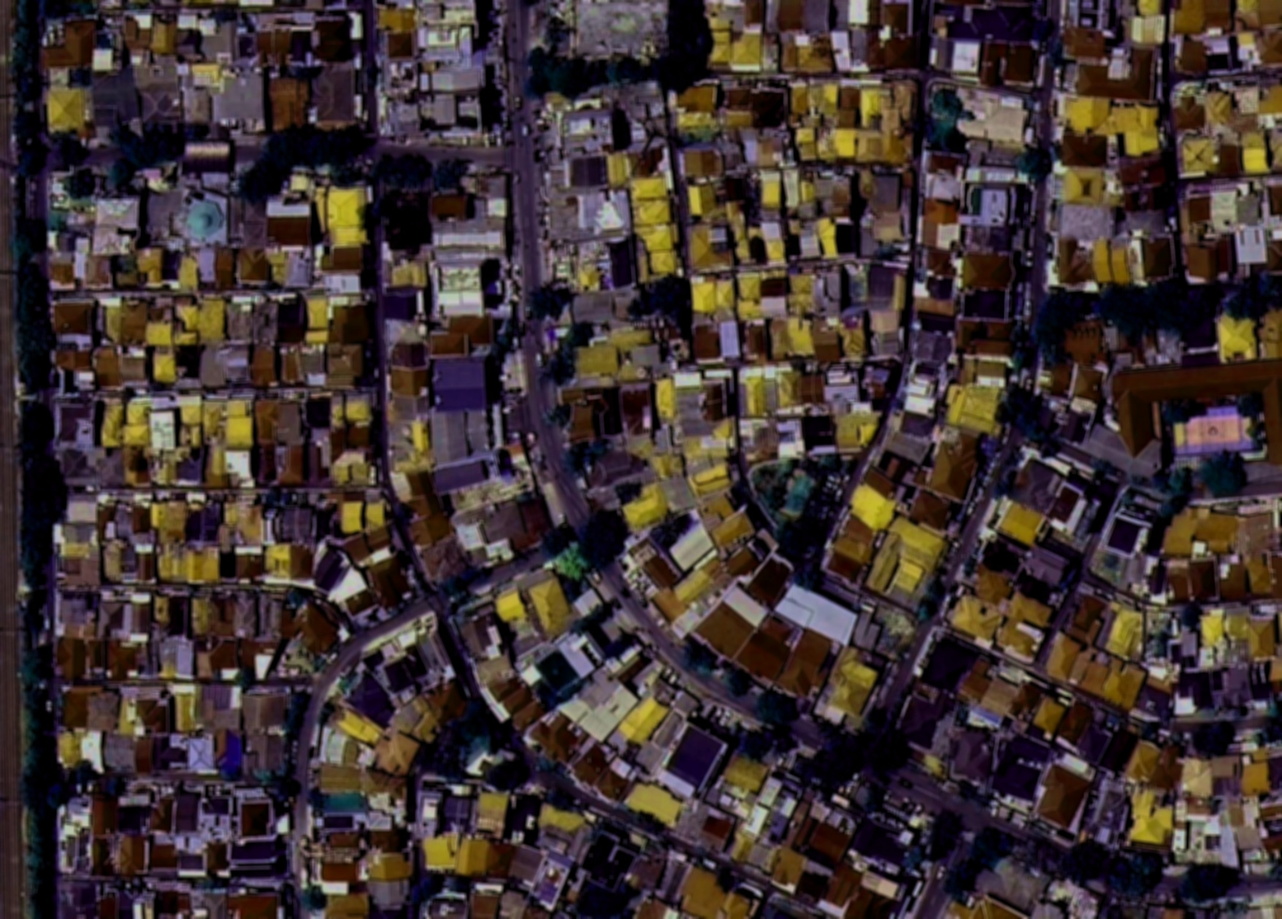building: (1110, 358, 1282, 465), (786, 75, 917, 167), (786, 75, 918, 166), (1169, 75, 1282, 181), (787, 78, 917, 166), (789, 80, 917, 165), (790, 80, 917, 165), (791, 80, 917, 165), (355, 615, 460, 710), (861, 511, 951, 611), (381, 668, 474, 759), (1075, 404, 1171, 492), (427, 170, 513, 265), (557, 661, 641, 746), (1060, 93, 1164, 156), (567, 0, 669, 64), (772, 577, 863, 647), (1084, 521, 1165, 599), (735, 769, 806, 857), (1028, 747, 1100, 833), (660, 715, 733, 795), (476, 662, 549, 740), (973, 847, 1052, 918), (984, 728, 1056, 805), (819, 508, 889, 587), (733, 611, 805, 687), (566, 738, 642, 810), (818, 642, 887, 721), (1174, 661, 1274, 715), (887, 678, 958, 754), (577, 435, 650, 508), (575, 821, 645, 895), (552, 94, 632, 158), (419, 829, 515, 882), (774, 626, 840, 703), (382, 409, 438, 497), (789, 801, 859, 871), (952, 85, 1033, 145), (1004, 446, 1072, 517), (848, 805, 919, 873), (1176, 130, 1270, 181), (918, 148, 965, 250), (706, 750, 772, 822), (525, 704, 593, 772), (453, 602, 516, 675), (915, 630, 981, 699), (1080, 773, 1139, 850), (1162, 503, 1241, 560), (925, 427, 984, 503), (1170, 809, 1246, 868), (692, 597, 758, 663), (284, 595, 350, 661), (53, 503, 103, 590), (814, 357, 875, 428), (932, 1, 1035, 43), (1075, 48, 1155, 101), (657, 509, 722, 574), (522, 567, 579, 640), (881, 513, 949, 573), (1095, 597, 1156, 663), (568, 237, 637, 295), (742, 546, 804, 610), (943, 589, 1008, 649), (1061, 0, 1123, 62), (1179, 218, 1238, 283), (1053, 480, 1112, 545), (132, 55, 185, 127), (84, 66, 143, 130), (669, 552, 732, 611), (1100, 498, 1158, 562), (626, 533, 685, 594), (417, 0, 475, 62), (343, 670, 405, 728), (943, 722, 998, 787), (615, 689, 673, 750), (298, 538, 356, 598), (1126, 785, 1178, 851), (673, 862, 733, 919), (389, 461, 443, 524), (415, 530, 474, 587), (851, 25, 921, 73), (401, 489, 456, 550), (897, 363, 941, 439), (624, 776, 687, 829), (842, 480, 901, 536), (431, 356, 489, 412), (554, 622, 610, 680), (362, 552, 416, 612), (1061, 585, 1113, 647), (213, 70, 264, 133), (616, 480, 674, 534), (433, 261, 487, 319), (426, 313, 495, 358), (526, 848, 575, 911), (310, 61, 356, 128), (944, 382, 1001, 436), (1072, 707, 1123, 767), (327, 700, 385, 751), (722, 83, 786, 129), (425, 405, 472, 467), (685, 457, 741, 509), (1098, 656, 1149, 713), (1027, 880, 1103, 918), (92, 193, 139, 254), (304, 721, 358, 774), (991, 613, 1047, 664), (385, 191, 431, 253), (669, 368, 710, 437), (672, 80, 725, 133), (976, 531, 1030, 583), (118, 685, 172, 737), (179, 192, 230, 247), (1096, 719, 1144, 777), (992, 498, 1047, 548), (817, 859, 867, 914), (1130, 675, 1181, 728), (1045, 470, 1092, 527), (229, 838, 288, 883), (43, 17, 95, 68), (721, 534, 774, 584), (1181, 753, 1241, 797), (722, 128, 788, 168), (651, 849, 698, 905), (1147, 739, 1193, 796), (1019, 540, 1072, 589), (1173, 35, 1236, 76), (430, 454, 493, 495), (955, 319, 1015, 362), (965, 563, 1017, 612), (603, 638, 655, 687), (1039, 630, 1086, 684), (1056, 393, 1101, 449), (325, 187, 367, 247), (978, 42, 1035, 86), (975, 671, 1023, 723), (905, 486, 956, 534), (721, 581, 772, 629), (175, 297, 226, 345), (720, 750, 772, 797), (478, 497, 527, 546), (180, 495, 226, 547), (242, 730, 288, 782), (500, 790, 543, 845), (268, 74, 310, 130), (326, 563, 373, 613), (687, 220, 733, 271), (1121, 735, 1166, 787), (626, 844, 671, 896), (145, 188, 186, 245), (194, 683, 241, 732), (266, 197, 312, 247), (694, 806, 740, 856), (779, 33, 835, 74), (737, 414, 782, 465), (1028, 688, 1072, 740), (102, 540, 155, 583), (534, 801, 588, 843), (1054, 697, 1098, 748), (765, 842, 809, 893), (1055, 203, 1114, 241), (956, 654, 999, 706), (737, 366, 779, 419), (670, 795, 714, 845), (1004, 590, 1055, 633), (706, 508, 757, 551), (1062, 319, 1107, 367), (1005, 675, 1048, 725), (241, 690, 291, 733), (960, 251, 1015, 290), (780, 34, 835, 73), (883, 423, 932, 466), (1172, 0, 1232, 35), (1058, 128, 1109, 169), (1096, 323, 1147, 364), (310, 13, 351, 64), (471, 787, 511, 839), (437, 789, 480, 837), (883, 424, 932, 466), (263, 542, 313, 583), (618, 382, 655, 437), (54, 590, 96, 638), (56, 637, 104, 679), (1077, 649, 1118, 698), (516, 489, 555, 540), (104, 299, 148, 344), (589, 764, 635, 807), (505, 842, 546, 890), (1237, 510, 1282, 553), (842, 883, 895, 919), (913, 277, 956, 321), (691, 276, 735, 319), (329, 301, 372, 345), (103, 639, 147, 682), (698, 488, 743, 530), (45, 87, 87, 132), (868, 35, 919, 72), (658, 470, 699, 516), (412, 783, 445, 840), (230, 197, 266, 249), (55, 401, 94, 449), (1117, 152, 1167, 189), (1147, 328, 1188, 373), (325, 343, 366, 388), (1090, 238, 1130, 284), (833, 412, 879, 452), (948, 895, 1028, 918), (277, 502, 319, 545), (234, 636, 276, 679), (384, 316, 428, 357), (859, 465, 904, 505), (199, 21, 239, 66), (1218, 315, 1257, 361), (182, 139, 233, 174), (648, 583, 690, 625), (148, 733, 191, 774), (136, 245, 178, 286), (910, 328, 955, 366), (1056, 238, 1093, 284), (1214, 557, 1251, 603), (255, 594, 291, 641), (490, 587, 530, 629), (150, 499, 188, 543), (56, 448, 101, 485), (758, 216, 790, 268), (155, 637, 194, 679), (576, 340, 620, 377), (733, 272, 766, 321), (1169, 92, 1208, 133), (674, 82, 721, 116), (152, 594, 189, 637), (750, 85, 786, 129), (1140, 235, 1175, 280), (837, 315, 872, 360), (57, 880, 98, 918), (331, 448, 373, 485), (227, 837, 277, 868), (801, 412, 837, 455), (1238, 82, 1282, 117), (868, 170, 903, 214), (226, 890, 281, 918), (607, 238, 637, 289), (600, 264, 638, 304), (810, 318, 843, 364), (627, 143, 668, 180), (592, 190, 628, 232), (386, 256, 428, 292), (86, 688, 120, 732), (961, 289, 1009, 320), (858, 867, 903, 900), (225, 398, 253, 451), (668, 603, 708, 640), (380, 737, 417, 777), (1064, 168, 1105, 204), (1187, 556, 1219, 602), (58, 685, 90, 731), (1104, 237, 1134, 286), (1000, 43, 1035, 85), (388, 389, 430, 424), (1235, 0, 1282, 31), (609, 322, 656, 353), (462, 407, 493, 454), (1180, 137, 1218, 175), (793, 867, 831, 905), (1177, 671, 1214, 710), (194, 298, 226, 343), (1070, 363, 1105, 404), (60, 830, 91, 876), (102, 730, 135, 773), (1179, 319, 1219, 354), (1146, 898, 1216, 918), (681, 146, 723, 179), (965, 224, 1012, 253), (735, 273, 764, 320), (1185, 240, 1218, 281), (53, 301, 94, 334), (566, 156, 607, 189), (208, 638, 241, 679), (239, 798, 272, 839), (868, 264, 897, 310), (571, 291, 614, 322), (117, 345, 148, 388), (256, 28, 291, 66), (1234, 226, 1268, 265), (1235, 29, 1269, 68), (1244, 552, 1274, 596), (859, 361, 892, 401), (361, 767, 405, 797), (1122, 126, 1163, 158), (949, 40, 981, 81), (632, 196, 673, 228), (148, 16, 180, 57), (320, 244, 365, 273), (276, 299, 305, 344), (317, 764, 362, 793), (123, 598, 152, 643), (682, 433, 730, 460), (626, 340, 664, 374), (1241, 751, 1269, 797), (172, 789, 200, 835), (249, 300, 278, 344), (249, 344, 278, 388), (1066, 644, 1096, 686), (1249, 615, 1277, 660), (871, 210, 905, 247), (686, 181, 719, 219), (730, 33, 763, 71), (1210, 185, 1237, 231), (1181, 757, 1212, 797), (717, 890, 761, 918), (431, 67, 480, 92), (218, 730, 243, 779), (1174, 37, 1207, 74), (342, 587, 379, 620), (421, 0, 474, 23), (776, 417, 805, 459), (117, 835, 146, 877), (91, 792, 118, 837), (325, 891, 370, 918), (423, 891, 468, 918), (1122, 185, 1165, 213), (786, 315, 814, 358), (965, 163, 1025, 183), (691, 322, 721, 362), (653, 376, 678, 424), (599, 387, 623, 437), (389, 367, 429, 397), (1166, 558, 1192, 604), (232, 592, 258, 638), (383, 29, 418, 63), (276, 444, 305, 485), (369, 852, 410, 881), (1260, 798, 1282, 852), (640, 223, 678, 254), (182, 86, 213, 124), (1126, 210, 1168, 238), (123, 445, 151, 487), (172, 687, 197, 734), (276, 400, 302, 445), (209, 639, 239, 678), (710, 16, 732, 69), (299, 344, 326, 387), (207, 595, 234, 638), (148, 791, 175, 834), (567, 402, 596, 442), (305, 296, 329, 344), (187, 547, 219, 583), (430, 189, 467, 220), (154, 887, 191, 918), (741, 802, 772, 839), (972, 358, 1010, 388), (630, 173, 668, 203), (776, 368, 803, 410), (94, 346, 121, 388), (199, 345, 226, 387), (367, 880, 409, 907), (377, 3, 416, 32), (1233, 819, 1265, 854), (882, 0, 914, 35), (96, 599, 124, 639), (79, 730, 105, 773), (760, 276, 787, 317), (236, 504, 263, 545), (254, 398, 278, 444), (100, 402, 124, 448), (1260, 308, 1282, 358), (124, 402, 149, 446), (788, 273, 814, 315), (1131, 15, 1165, 47), (467, 888, 502, 919), (1260, 803, 1282, 852), (723, 200, 748, 243), (186, 735, 215, 772), (729, 828, 758, 865), (1235, 189, 1263, 227), (288, 29, 316, 67), (669, 687, 701, 720), (361, 523, 395, 554), (151, 346, 178, 385), (97, 448, 124, 487), (421, 95, 456, 125), (238, 248, 268, 283), (650, 450, 685, 480), (175, 344, 204, 380), (767, 317, 791, 360), (226, 302, 251, 343), (455, 520, 486, 553), (605, 150, 631, 189), (703, 379, 726, 423), (744, 321, 768, 363), (718, 318, 742, 360), (1257, 27, 1282, 67), (150, 409, 175, 449), (981, 188, 1008, 225), (175, 448, 202, 485), (830, 29, 853, 72), (323, 792, 366, 815), (647, 248, 681, 277), (383, 292, 417, 321), (363, 498, 391, 533), (137, 247, 162, 286), (798, 370, 825, 406), (204, 444, 226, 488), (1047, 360, 1073, 397), (456, 93, 482, 130), (285, 249, 311, 286), (390, 342, 427, 368), (117, 804, 148, 835), (90, 837, 114, 877), (1215, 141, 1243, 175), (123, 16, 151, 50), (1206, 89, 1233, 124), (150, 836, 177, 871), (824, 270, 844, 317), (1246, 892, 1282, 918), (872, 329, 903, 359), (65, 493, 97, 522), (339, 500, 364, 537), (277, 604, 302, 641), (54, 346, 92, 370), (367, 827, 402, 853), (201, 399, 223, 440), (60, 797, 90, 827), (759, 170, 782, 209), (803, 0, 830, 33), (730, 227, 754, 264), (225, 344, 249, 381), (85, 255, 111, 289), (214, 247, 235, 289), (1200, 612, 1225, 647), (57, 731, 82, 766), (736, 0, 765, 30), (856, 132, 884, 163), (484, 537, 515, 565), (777, 0, 804, 32), (305, 397, 332, 429), (782, 168, 803, 209), (96, 502, 118, 541), (924, 199, 958, 224), (902, 392, 936, 417), (499, 889, 528, 918), (817, 218, 838, 258), (280, 346, 302, 384), (1185, 795, 1218, 820), (798, 179, 818, 220), (345, 393, 372, 423), (395, 101, 421, 132), (225, 448, 251, 479), (320, 861, 358, 882), (861, 86, 880, 127), (869, 309, 901, 333), (798, 226, 821, 259), (926, 248, 954, 275), (177, 394, 202, 424), (1187, 194, 1211, 225), (60, 208, 92, 231), (195, 248, 216, 283), (326, 830, 361, 851), (236, 554, 264, 580), (258, 444, 277, 482), (152, 453, 175, 484), (814, 173, 832, 212), (117, 889, 141, 918), (1030, 899, 1066, 918), (206, 842, 228, 873), (176, 28, 201, 55), (146, 321, 173, 346), (926, 276, 954, 300), (1171, 821, 1191, 854), (49, 263, 74, 289), (347, 423, 372, 449), (1225, 614, 1249, 641), (1180, 630, 1198, 666), (48, 230, 76, 253), (577, 194, 595, 229), (119, 697, 136, 734), (722, 175, 746, 201), (330, 423, 346, 462), (1268, 747, 1282, 791), (834, 129, 856, 157), (836, 224, 856, 254), (389, 62, 413, 87), (178, 853, 205, 875), (204, 891, 226, 918), (202, 795, 230, 816), (747, 235, 767, 264), (131, 505, 151, 533), (1269, 128, 1282, 171), (1110, 502, 1134, 525), (1266, 239, 1282, 273), (760, 277, 787, 297), (1242, 797, 1259, 827), (366, 811, 393, 829), (860, 226, 875, 258), (848, 0, 868, 24), (785, 233, 802, 261), (1228, 800, 1244, 829), (1268, 184, 1282, 215), (1137, 0, 1163, 16), (223, 501, 239, 526), (928, 45, 944, 68), (332, 466, 351, 485), (390, 396, 414, 404), (1140, 523, 1152, 535), (136, 738, 139, 772), (644, 103, 651, 117), (391, 357, 401, 365), (358, 423, 369, 430), (333, 425, 340, 433), (361, 396, 368, 403)
tree: (794, 713, 880, 804), (1137, 271, 1225, 340), (566, 503, 639, 575), (443, 694, 512, 766), (1090, 277, 1163, 341), (645, 42, 713, 100), (1055, 832, 1117, 895), (855, 722, 917, 782), (661, 0, 719, 62), (413, 730, 475, 787), (1103, 847, 1166, 901), (18, 453, 67, 522), (299, 124, 368, 173), (231, 155, 294, 208), (123, 124, 188, 174), (1219, 277, 1276, 333), (1026, 309, 1075, 368), (641, 270, 695, 322), (5, 528, 57, 580), (1195, 449, 1250, 498), (1014, 832, 1066, 882), (965, 822, 1015, 872), (922, 809, 965, 866), (1040, 283, 1092, 330), (573, 881, 639, 918), (674, 636, 727, 682), (6, 262, 48, 320), (434, 564, 494, 604), (1150, 459, 1200, 507), (1188, 717, 1240, 762), (749, 461, 794, 512), (537, 345, 585, 392), (793, 483, 840, 531), (997, 384, 1044, 432), (1180, 865, 1237, 904), (370, 154, 432, 189), (264, 128, 315, 170), (13, 500, 60, 545), (18, 401, 54, 459), (535, 518, 581, 563), (929, 119, 975, 164), (941, 855, 982, 905), (550, 543, 594, 588), (546, 57, 594, 98), (714, 659, 758, 703), (13, 312, 56, 357), (1011, 142, 1056, 185), (575, 598, 622, 639), (404, 869, 447, 911), (11, 213, 46, 264), (278, 686, 312, 738), (776, 521, 825, 557), (649, 510, 692, 551), (528, 748, 574, 786), (540, 785, 589, 819), (564, 437, 611, 472), (101, 153, 141, 194), (756, 689, 798, 728), (738, 727, 786, 761), (593, 58, 648, 85), (529, 284, 569, 321), (429, 156, 470, 192), (486, 758, 529, 792), (20, 703, 56, 743), (18, 350, 51, 393), (302, 784, 341, 819), (22, 739, 56, 779), (597, 629, 642, 659), (7, 40, 40, 79), (21, 646, 52, 687), (41, 776, 76, 812), (519, 67, 554, 103), (269, 771, 304, 807), (541, 16, 575, 52), (62, 169, 96, 204), (106, 120, 141, 154), (667, 303, 700, 337), (27, 826, 53, 868), (68, 758, 101, 791), (386, 496, 419, 529), (931, 86, 963, 120), (489, 328, 520, 363), (1153, 491, 1188, 522), (529, 680, 562, 712), (1006, 342, 1038, 375), (10, 107, 41, 141), (23, 772, 53, 807), (558, 321, 595, 349), (231, 663, 263, 695), (623, 293, 656, 324), (1161, 398, 1196, 427), (15, 70, 41, 109), (552, 679, 587, 707), (16, 143, 43, 178), (861, 783, 888, 818), (614, 478, 646, 507), (809, 451, 846, 476), (793, 561, 823, 591), (256, 764, 296, 786), (1257, 273, 1282, 308), (545, 399, 575, 428), (438, 874, 475, 897), (14, 16, 39, 50), (1022, 418, 1051, 447), (862, 707, 890, 737), (299, 885, 330, 912), (328, 164, 364, 187), (208, 1, 242, 25), (367, 193, 395, 222), (1030, 16, 1057, 46), (1234, 394, 1265, 419), (40, 0, 73, 23), (199, 870, 232, 893), (529, 47, 557, 74), (286, 63, 323, 83), (1091, 457, 1123, 480), (15, 0, 43, 26), (26, 801, 53, 827), (1009, 322, 1035, 349), (21, 567, 48, 592), (914, 598, 939, 625), (1258, 719, 1282, 747), (24, 686, 49, 712), (283, 585, 308, 611), (1232, 697, 1258, 722), (876, 242, 905, 264), (926, 572, 947, 602), (1005, 447, 1030, 472), (993, 471, 1015, 499), (1049, 37, 1068, 69), (22, 609, 44, 636), (67, 0, 100, 18), (957, 780, 983, 802), (28, 863, 47, 893), (316, 700, 337, 727), (905, 843, 926, 870), (1100, 900, 1130, 918), (1248, 424, 1268, 451), (68, 67, 92, 89), (564, 578, 585, 603), (183, 124, 212, 142), (264, 487, 289, 507), (27, 895, 48, 918), (1179, 607, 1202, 628), (106, 775, 127, 796), (961, 556, 979, 580), (1141, 721, 1160, 740), (1039, 442, 1059, 459), (1051, 140, 1065, 162), (1123, 487, 1140, 505), (1269, 858, 1282, 881), (1129, 474, 1150, 488), (1269, 698, 1282, 716)
